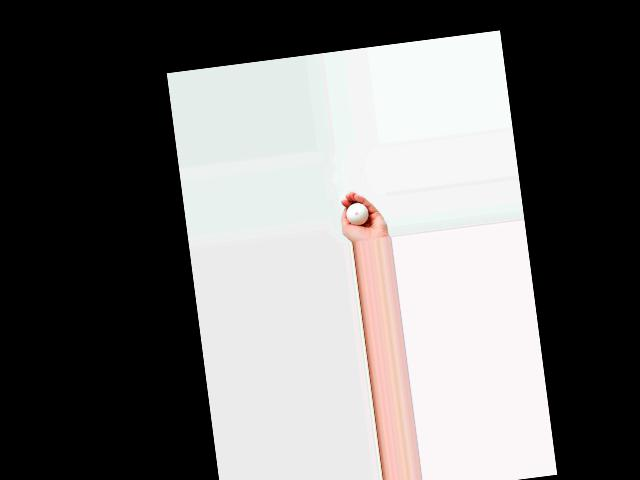egg: (345, 201, 369, 226)
